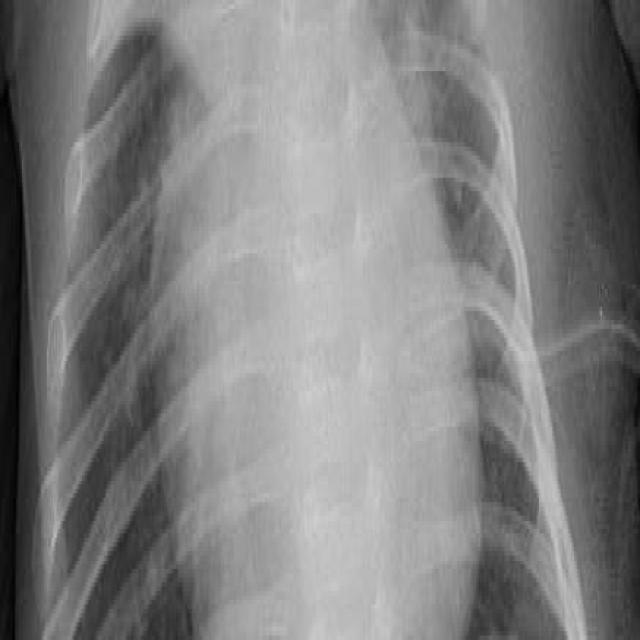low-pneumonia: (380, 5, 480, 218)
